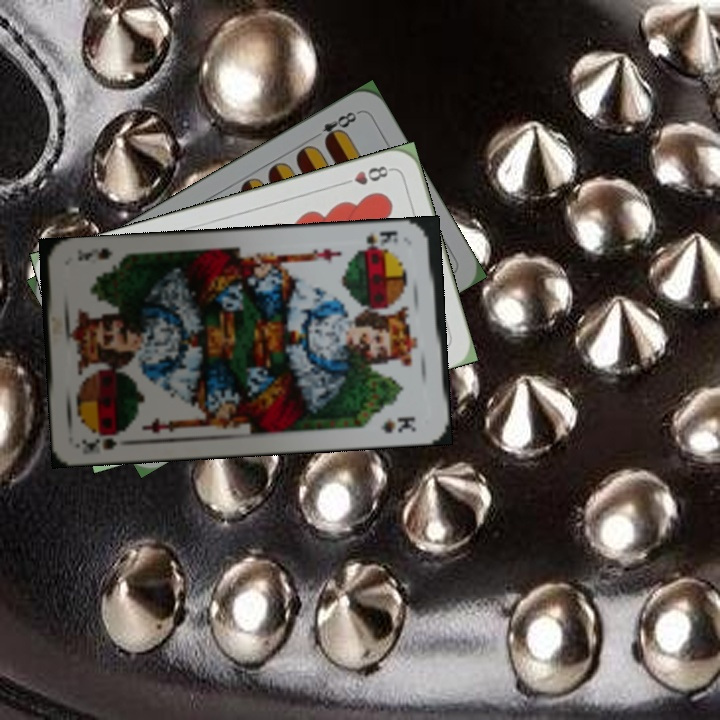E8: (317, 107, 362, 146)
H8: (337, 161, 395, 188)
SK: (355, 226, 401, 254), (78, 428, 129, 453)
